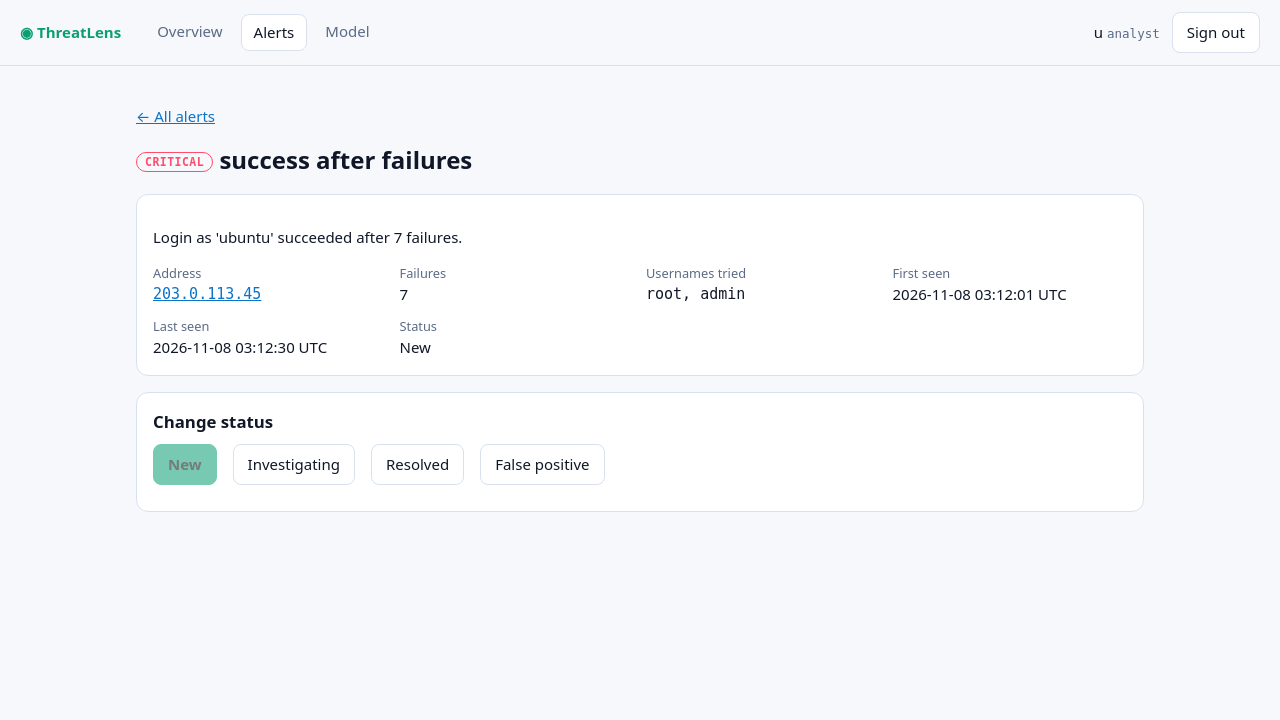
alert detail › shows the server error when the change is refused
Click the button "Resolved": (418, 464) [371,444,464,485]
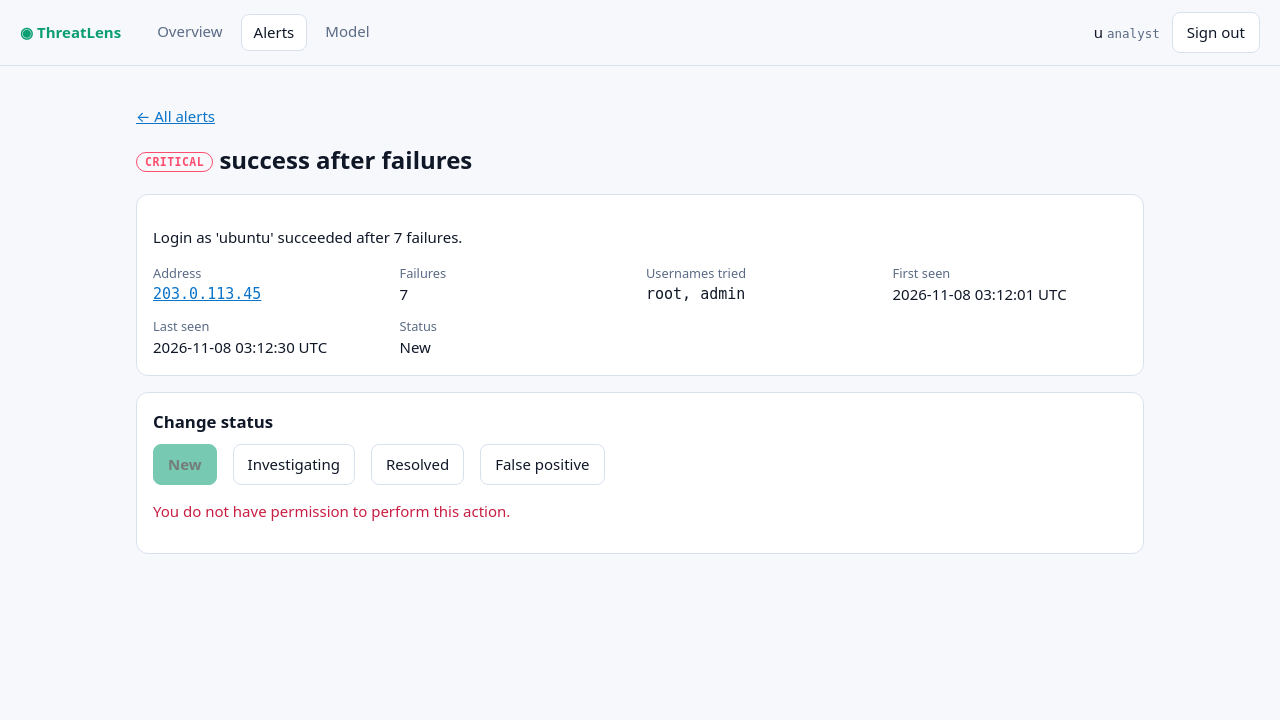
Expected: the text with test id "status" reads "New", [400,337,431,357]
Now the message shows "do not have permission", box [153,501,510,521]
